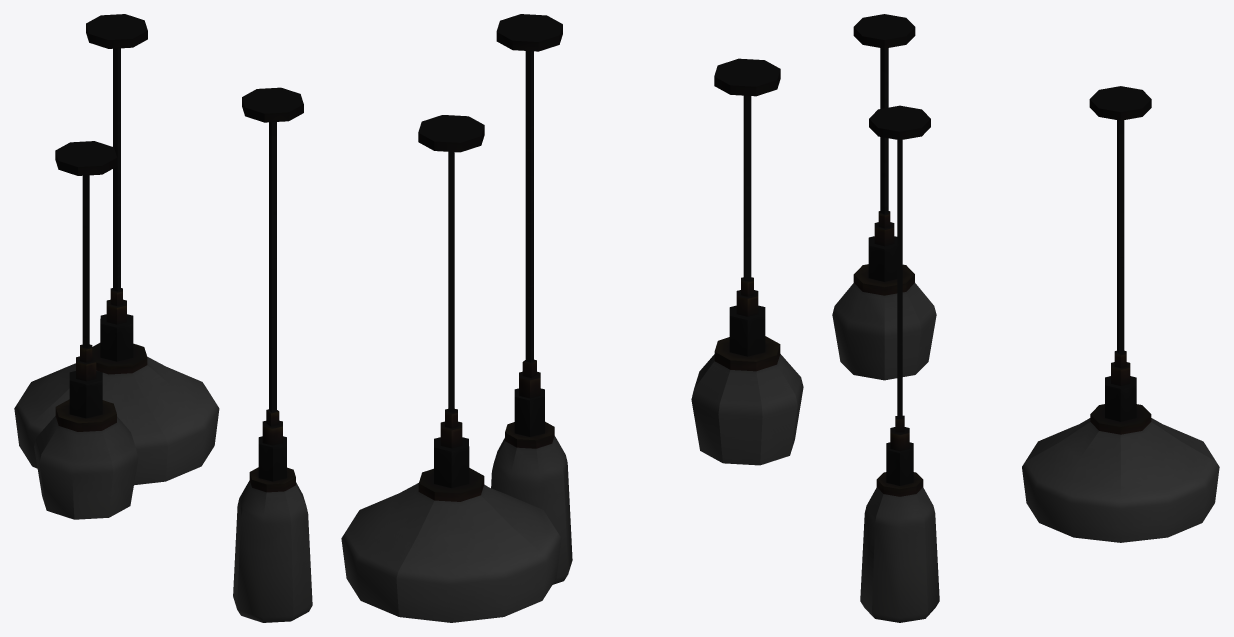
Rendered from tiny_don_tripp_light_fixture.glb.
3 views of the same model, side by side, from view 1: azimuth 30°, elevation 25°; view 2: azimuth 150°, elevation 25°; view 3: azimuth 270°, elevation 25° (orthographic). The views are drawn at different scales.
Visible parts, largest first — view 1: Object_40; view 2: Object_40; view 3: Object_40.
Boxes of the visible parts, x1,y1,x2,y2 form: Object_40: (14,14,312,622); Object_40: (341,14,803,622); Object_40: (832,14,1219,622).
Bounding box in the file's own units: 0.6869 × 1.15 × 0.8272.
Materials: 1 (1 with a texture image).
